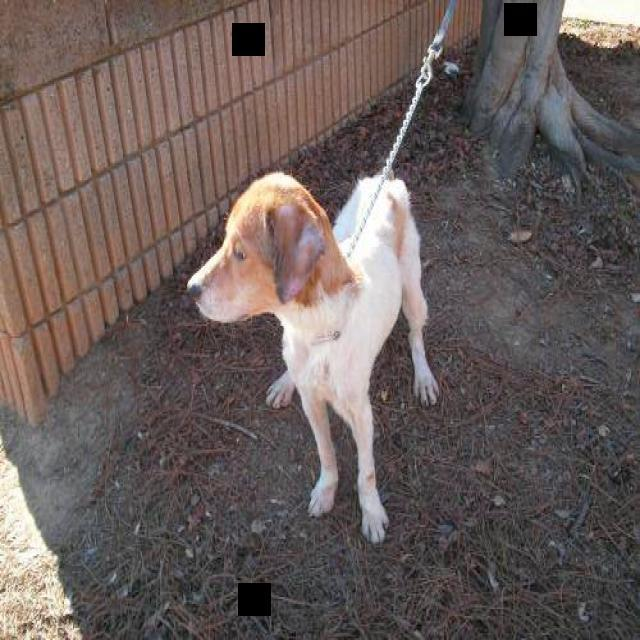adult_dog: (185, 171, 440, 547)
